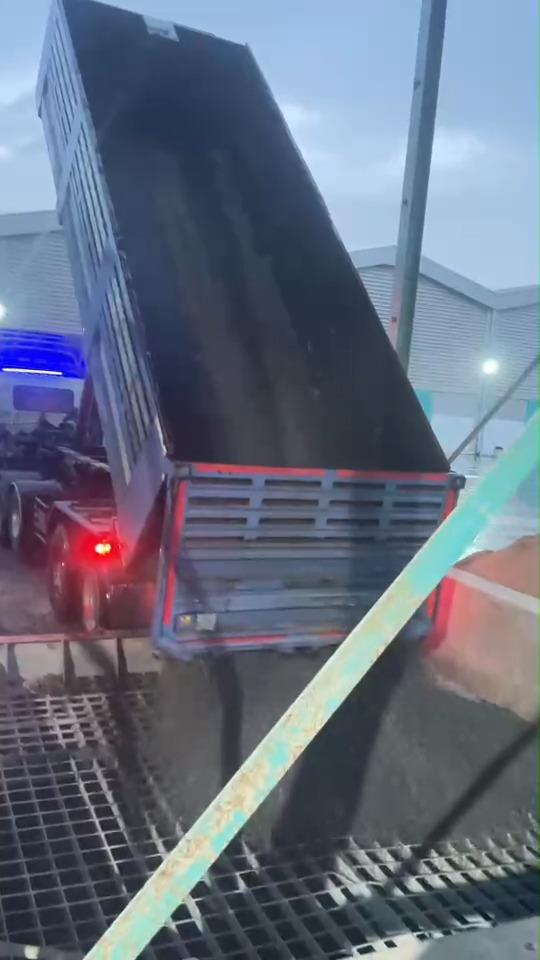gravel: (244, 636, 523, 850), (148, 647, 333, 827), (449, 744, 536, 838), (0, 745, 114, 770), (26, 668, 66, 692)
sand: (458, 536, 539, 598)
